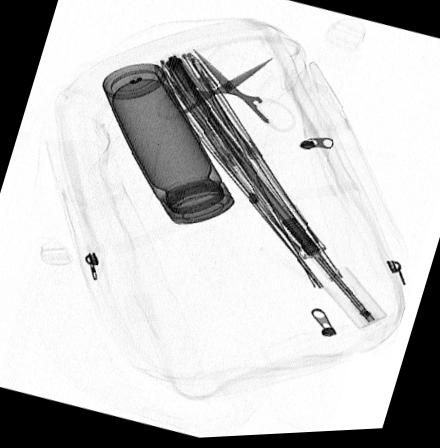Scissors: (161, 49, 297, 139)
